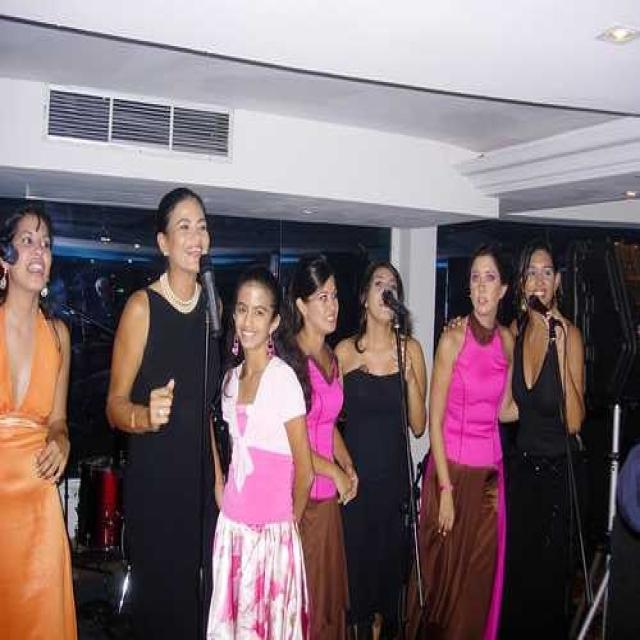microphone: (197, 254, 223, 337), (530, 296, 560, 340), (381, 289, 408, 321), (0, 238, 19, 264)
